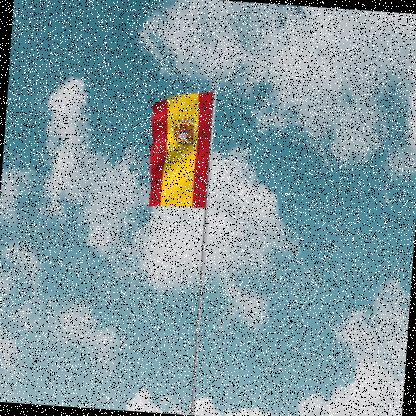es: (145, 89, 215, 214)
